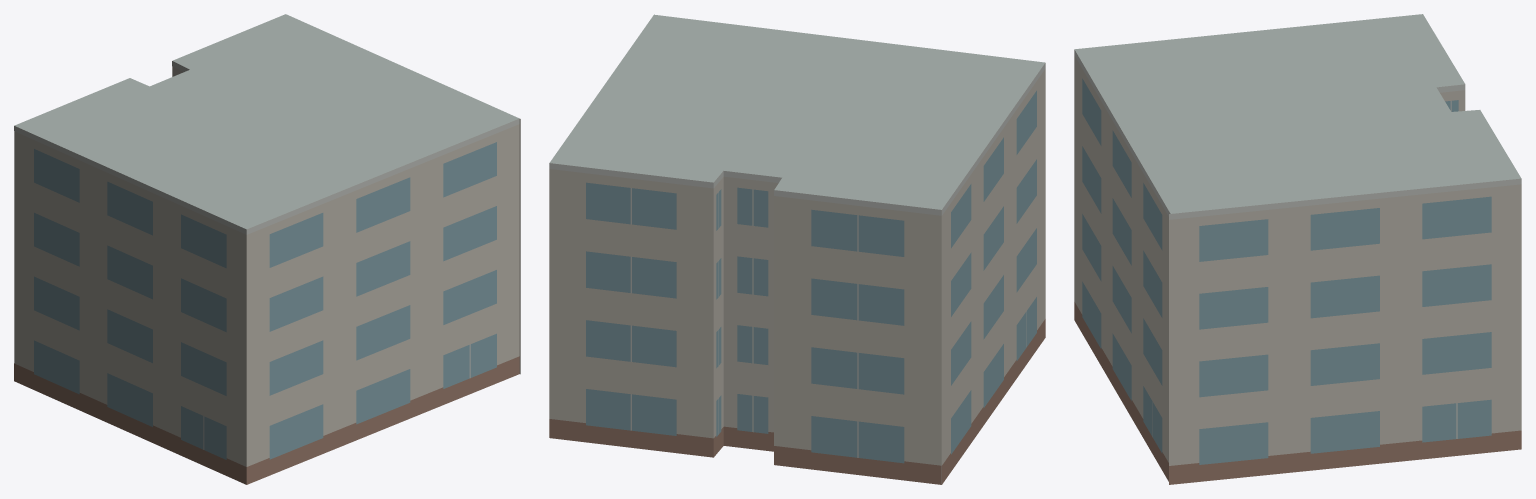
Rendered from survey-upis-32930804.glb.
3 views of the same model, side by side, from view 1: azimuth 30°, elevation 25°; view 2: azimuth 150°, elevation 25°; view 3: azimuth 270°, elevation 25° (orthographic). The views are drawn at different scales.
Parts seen in each view (by area): view 1: survey-upis-32930804.tmp; view 2: survey-upis-32930804.tmp; view 3: survey-upis-32930804.tmp.
Boxes of the visible parts, bbox=[...] form: survey-upis-32930804.tmp: bbox=[14, 14, 520, 484]; survey-upis-32930804.tmp: bbox=[549, 14, 1045, 484]; survey-upis-32930804.tmp: bbox=[1074, 14, 1521, 484].
Bounding box in the file's own units: 18.08 × 11.4 × 17.07.
